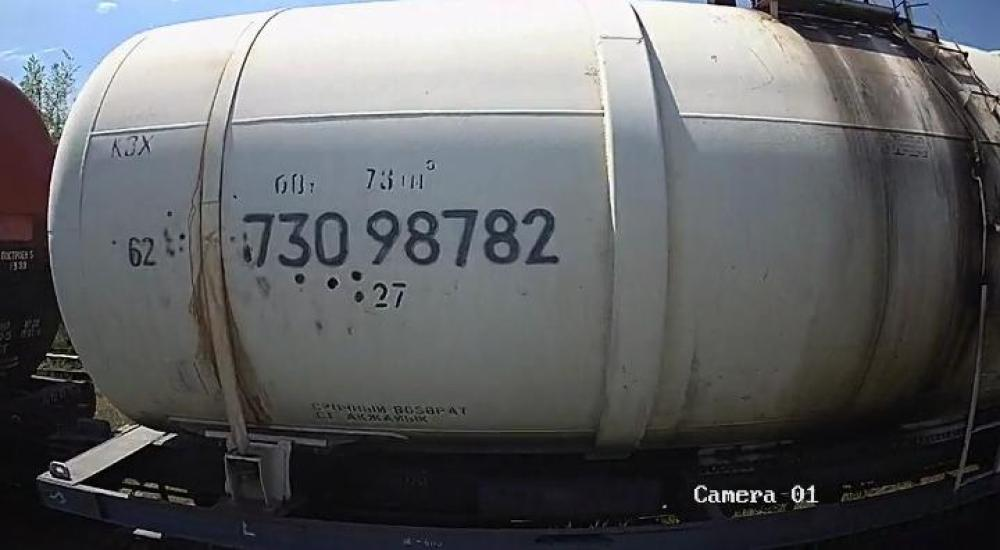Wagon-number: (239, 206, 567, 274)
